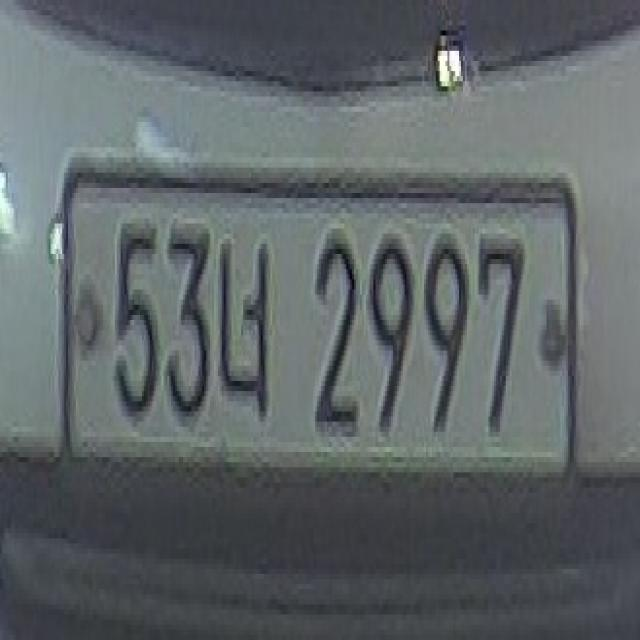2: (309, 228, 368, 437)
3: (163, 218, 220, 437)
5: (111, 218, 167, 432)
7: (471, 234, 537, 426)
9: (416, 218, 475, 452), (366, 229, 418, 457)
license_plate: (56, 158, 584, 482)
neo: (212, 223, 274, 432)
